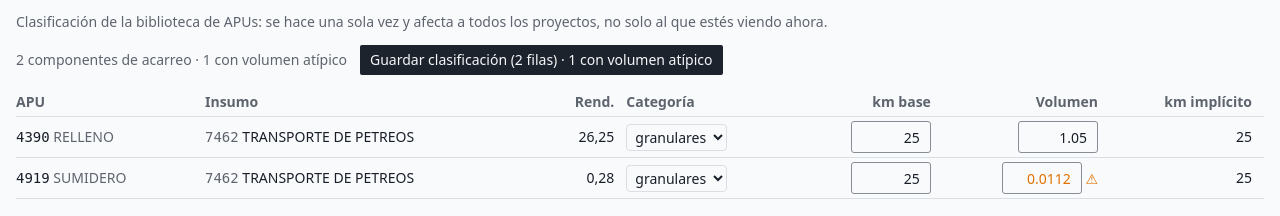
Scenario: ClasificacionTransporte › recalcula el volumen y el km implícito al editar el km base
Expected: the text "SUMIDERO" is shown, [53,168,126,187]
Replace the text in the field named "km base de 4390|DIURNO|7462" with "10": (891, 137) [851,121,931,153]
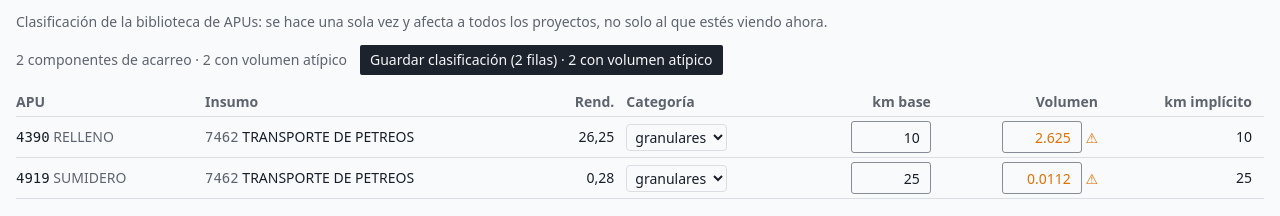
Expected: the field showing "2.625" is shown, [1002,121,1082,153]
Expected: the text "10" is shown, [1110,116,1264,158]
